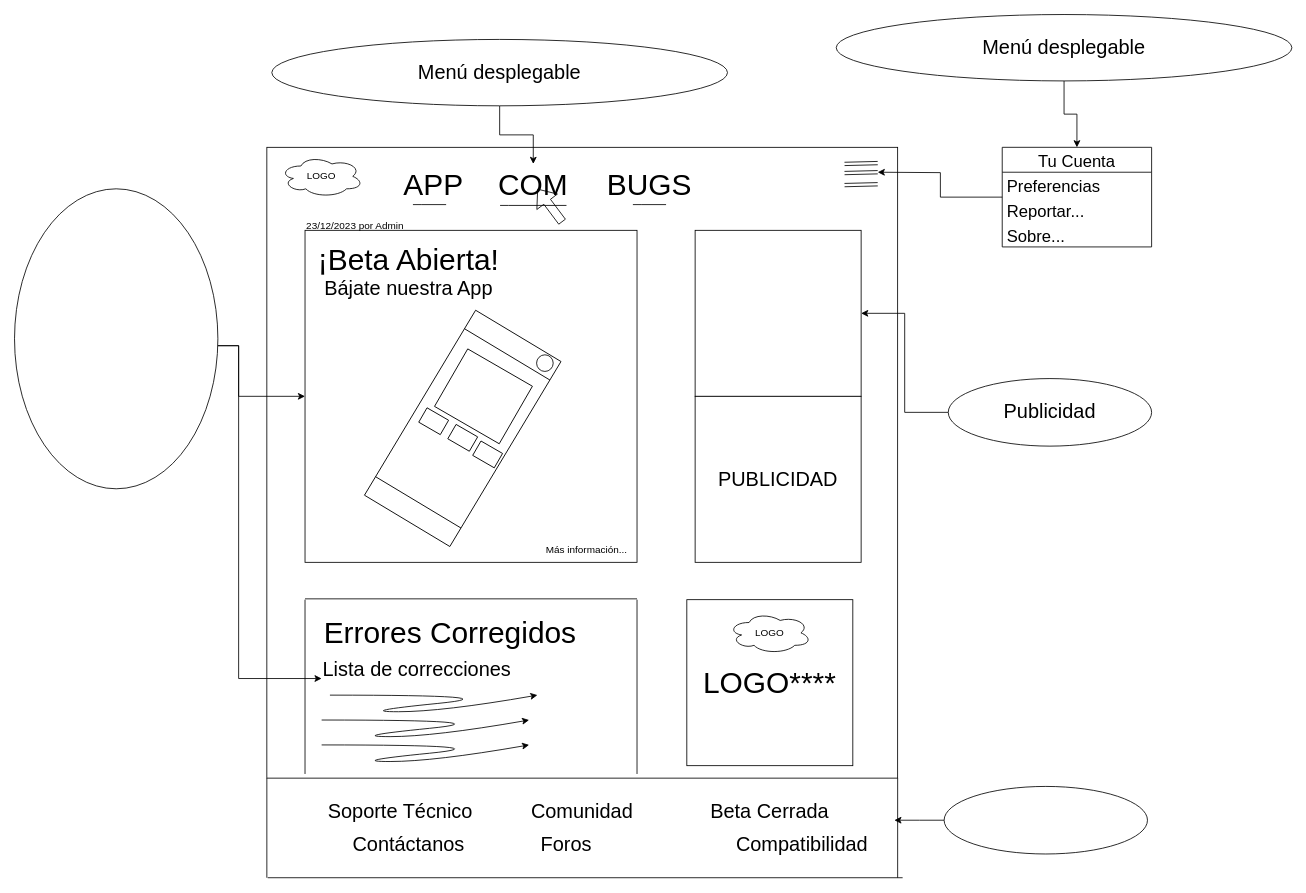
The diagram is 1306 pixels wide and 893 high, and some of its shapes have lost their labels. Here are the shapes that lost their labels. From the top down, the box of each, then its label:
(694, 229, 861, 396): p UBLICIDAD
(14, 188, 218, 489): Noticias Actualizaciones etc
(434, 348, 533, 444): ¡A PAGAR!
(943, 786, 1147, 854): Pie de página Más info
